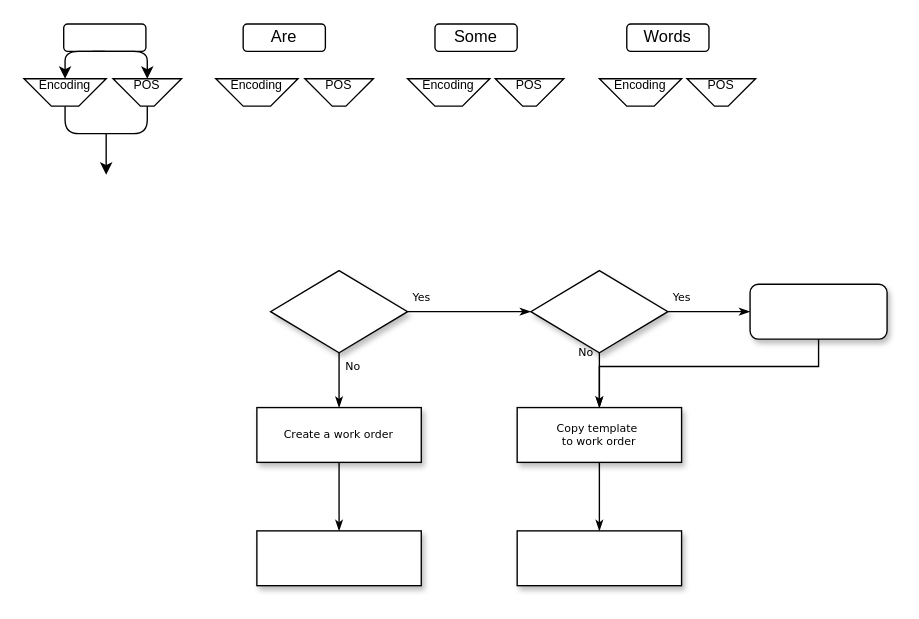
This 919x619 diagram has some shape labels left out. The shapes that lost their labels are listed below. From the top down, each one's centre as x and y in pixels, then its label:
At point (104, 37): "Here".
At point (340, 313): "Frequently performed process?".
At point (600, 313): "New template needed?".
At point (819, 313): "Create work order template".
At point (339, 559): "Add materials to work order processes".
At point (600, 559): "Adjust material quantities if needed".
